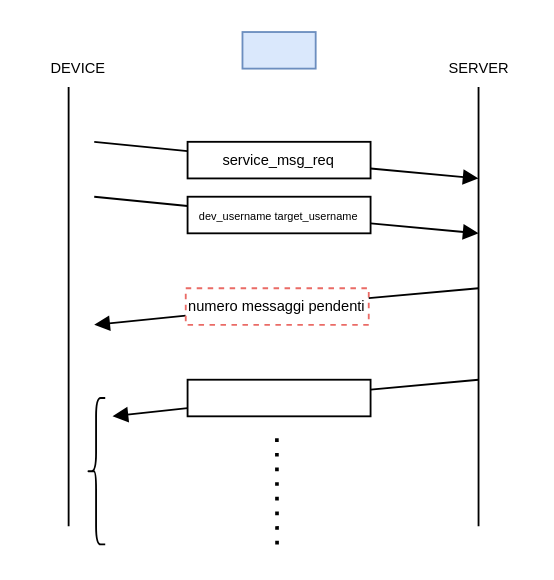
The diagram is 554 pixels wide and 580 high, and some of its shapes have lost their labels. The centre of each missing label's shape, as x and y in pixels:
"messaggio pendente" belongs at (278,397).
"SHOW" belongs at (278,49).
